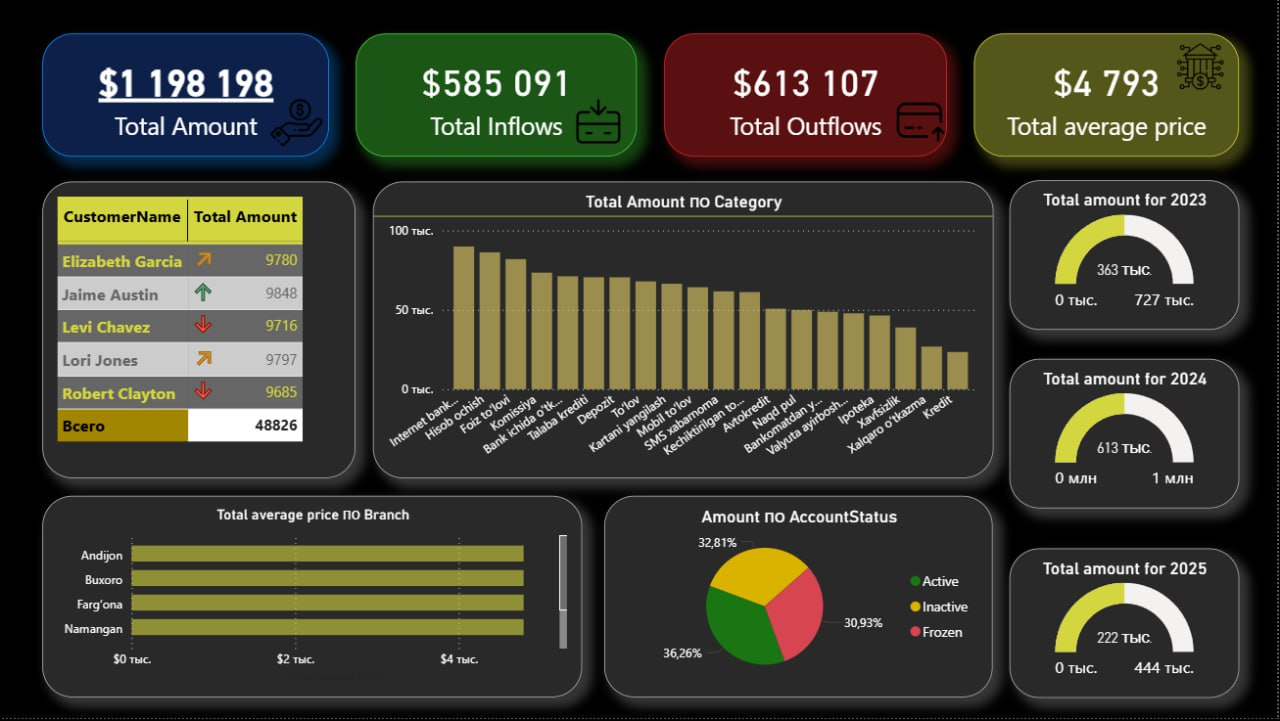

The dashboard page shown, as its layout file describes it:
{"tool":"powerbi","page":{"name":"Bank Transactions","canvas":[1280,720],"ordinal":0},"visuals":[{"type":"card","fields":{"Values":["Bank Transactions.Umumiy o'rtacha narx"]},"box":[976,35.3,264.6,123.5],"z":0},{"type":"card","fields":{"Values":["Bank Transactions.Total Amount"]},"box":[45.6,35.3,286.6,123.5],"z":1000},{"type":"card","fields":{"Values":["Bank Transactions.Total Inflows"]},"box":[358.7,35.3,280.8,123.5],"z":2000},{"type":"card","fields":{"Values":["Bank Transactions.Total Outflows"]},"box":[665.9,35.3,282.2,123.5],"z":3000},{"type":"clusteredBarChart","fields":{"Category":["Bank Transactions.Branch"],"Y":["Bank Transactions.Total average price"]},"box":[45.6,498.3,539.5,201.4],"z":4000},{"type":"gauge","fields":{"Y":["Bank Transactions.2024-yil uchun umumiy summa"]},"box":[1011.3,360.1,229.3,149.9],"z":5000},{"type":"gauge","fields":{"Y":["Bank Transactions.2025-yil uchun umumiy summa"]},"box":[1011.3,549.7,229.3,149.9],"z":6000},{"type":"pivotTable","fields":{"Rows":["Bank Transactions.CustomerName"],"Values":["Bank Transactions.Total Amount","select"]},"box":[45.6,183.6,313,297],"z":7000},{"type":"gauge","fields":{"Y":["Bank Transactions.Total amount for 2023"]},"box":[1011.3,182.3,229.3,149.9],"z":8000},{"type":"pieChart","fields":{"Category":["Bank Transactions.AccountStatus"],"Y":["Bank Transactions.Amount"]},"box":[607.1,498.3,388.1,201.4],"z":9000},{"type":"lineClusteredColumnComboChart","fields":{"Category":["Bank Transactions.Category"],"Y":["Bank Transactions.Total Amount"]},"box":[375.8,183.6,619.8,297],"z":10000},{"type":"image","box":[887.8,89.3,69.7,69.7],"z":11000},{"type":"image","box":[1173.9,40.4,56.3,56.3],"z":12000},{"type":"image","box":[266.6,86.8,64.8,75.8],"z":13000},{"type":"image","box":[569.8,96.6,61.1,53.8],"z":14000}]}

Visuals, with their boxes in screenshot pixels (x1, y1, x2, y2), scaled from the page's 1280x720 canvas onto the 1280x721 screenshot:
card - Bank Transactions.Umumiy o'rtacha narx: {"x1": 976, "y1": 35, "x2": 1241, "y2": 159}
card - Bank Transactions.Total Amount: {"x1": 46, "y1": 35, "x2": 332, "y2": 159}
card - Bank Transactions.Total Inflows: {"x1": 359, "y1": 35, "x2": 640, "y2": 159}
card - Bank Transactions.Total Outflows: {"x1": 666, "y1": 35, "x2": 948, "y2": 159}
clusteredBarChart - Bank Transactions.Branch x Bank Transactions.Total average price: {"x1": 46, "y1": 499, "x2": 585, "y2": 701}
gauge - Bank Transactions.2024-yil uchun umumiy summa: {"x1": 1011, "y1": 361, "x2": 1241, "y2": 511}
gauge - Bank Transactions.2025-yil uchun umumiy summa: {"x1": 1011, "y1": 550, "x2": 1241, "y2": 701}
pivotTable - Bank Transactions.CustomerName x Bank Transactions.Total Amount: {"x1": 46, "y1": 184, "x2": 359, "y2": 481}
gauge - Bank Transactions.Total amount for 2023: {"x1": 1011, "y1": 183, "x2": 1241, "y2": 333}
pieChart - Bank Transactions.AccountStatus x Bank Transactions.Amount: {"x1": 607, "y1": 499, "x2": 995, "y2": 701}
lineClusteredColumnComboChart - Bank Transactions.Category x Bank Transactions.Total Amount: {"x1": 376, "y1": 184, "x2": 996, "y2": 481}
image: {"x1": 888, "y1": 89, "x2": 958, "y2": 159}
image: {"x1": 1174, "y1": 40, "x2": 1230, "y2": 97}
image: {"x1": 267, "y1": 87, "x2": 331, "y2": 163}
image: {"x1": 570, "y1": 97, "x2": 631, "y2": 151}
